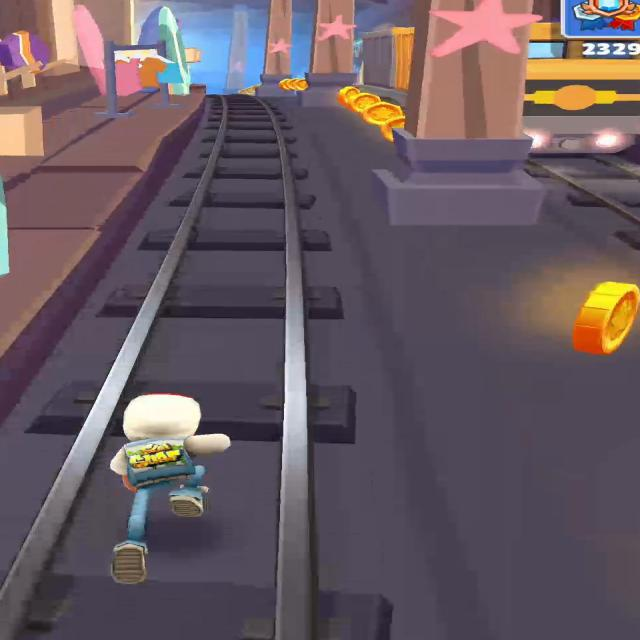block pillar: (376, 0, 541, 224), (301, 0, 356, 107), (257, 0, 295, 97)
train: (523, 23, 639, 155), (353, 28, 413, 106)
